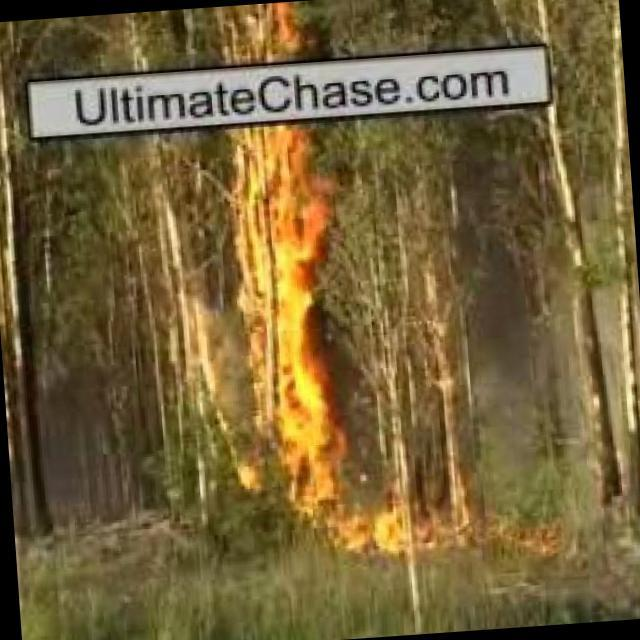Fire: (224, 126, 355, 465), (282, 463, 421, 580), (219, 2, 303, 70)
